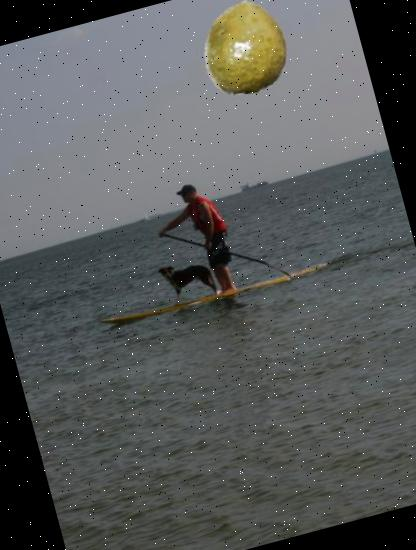Guava: (188, 0, 303, 105)
